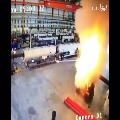fire: (75, 34, 100, 88)
